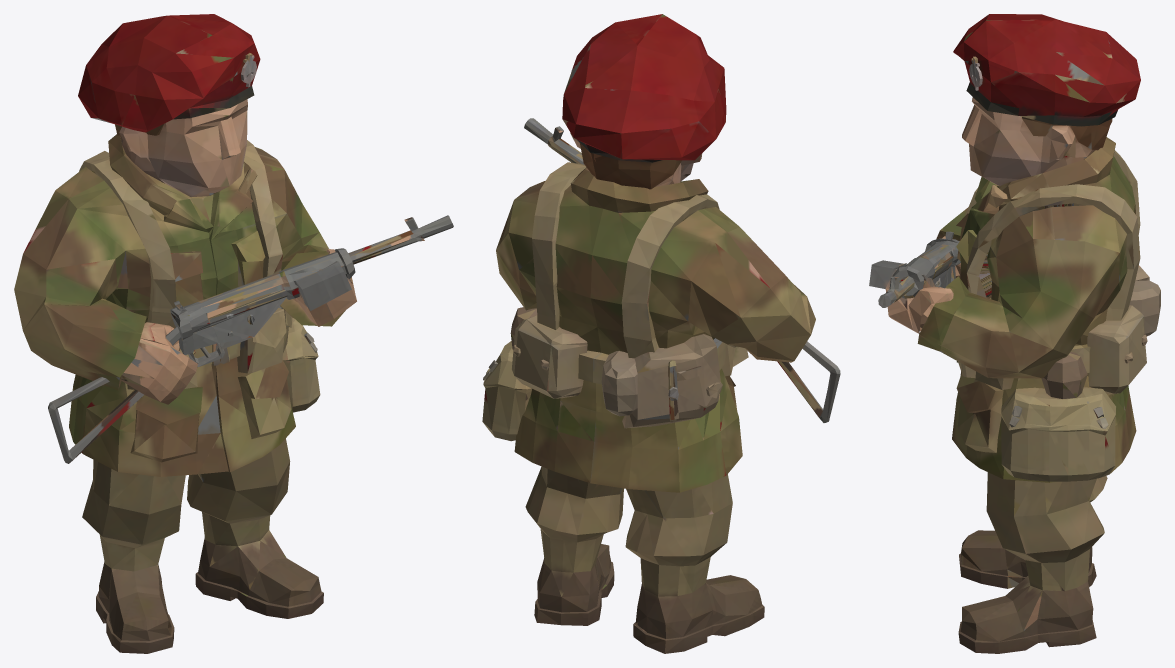
File: sicily_british_airborne_0.glb
The picture shows the model from 3 angles, left to right: view 1: azimuth 30°, elevation 25°; view 2: azimuth 150°, elevation 25°; view 3: azimuth 270°, elevation 25°; orthographic projection.
Parts seen in each view (by area): view 1: geometry_0; view 2: geometry_0; view 3: geometry_0.
Part boxes in pixels (left/top/right/bottom): geometry_0: left=14, top=14, right=453, bottom=653; geometry_0: left=482, top=14, right=840, bottom=653; geometry_0: left=869, top=14, right=1160, bottom=653.
Size of the model in its own units: 0.2061 by 0.324 by 0.1465.
1 material, 1 textured.
